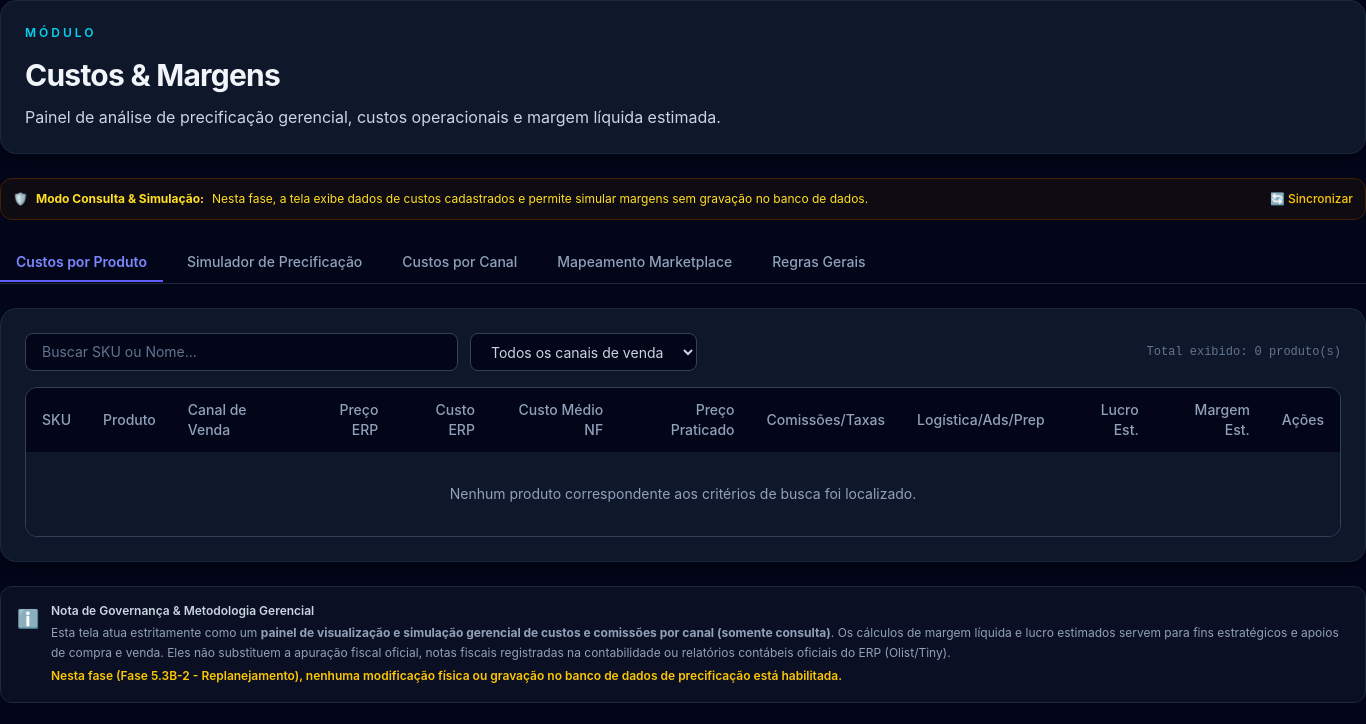
Test: CustosMargem - Simulador Mercado Livre (Fase 5.5L-6G.4) › 3. deve garantir que o resultado retornado pelo provider e exibido nos cards
Click the button "Simulador de Precificação" at (275, 263), box [171,244,378,282]
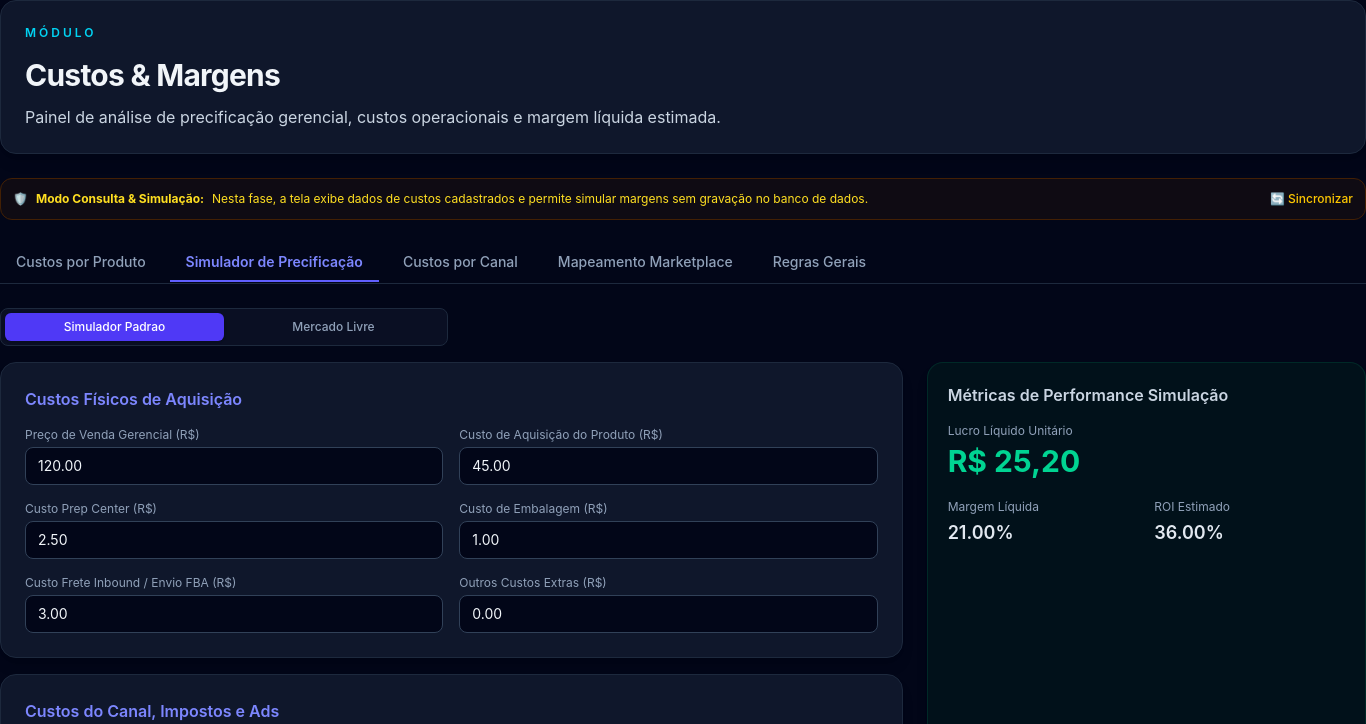
Click the button "Mercado Livre" at (334, 327), box [224,313,443,341]
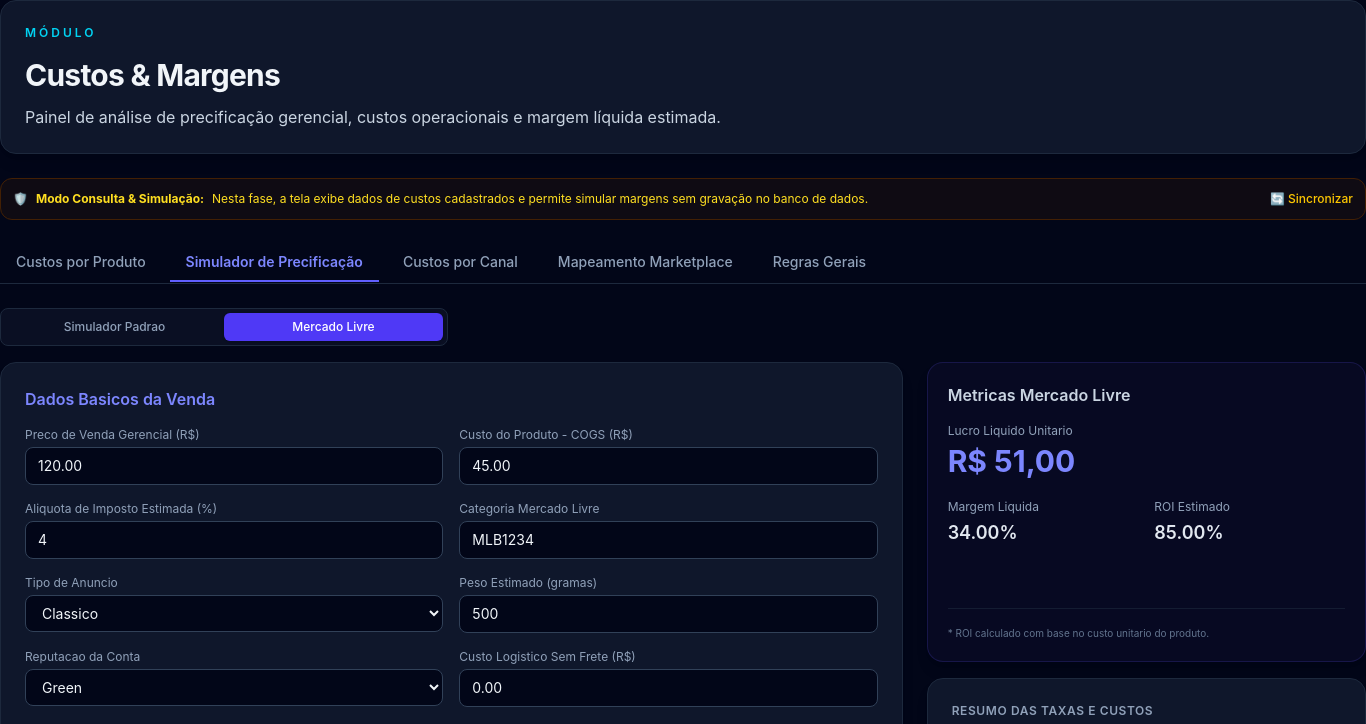
Expected: the heading "Metricas Mercado Livre" is shown, [948,385,1130,405]
Expected: the text "R$ 51,00" is shown, [948,443,1075,479]
Expected: the text "34.00%" is shown, [948,522,1018,543]
